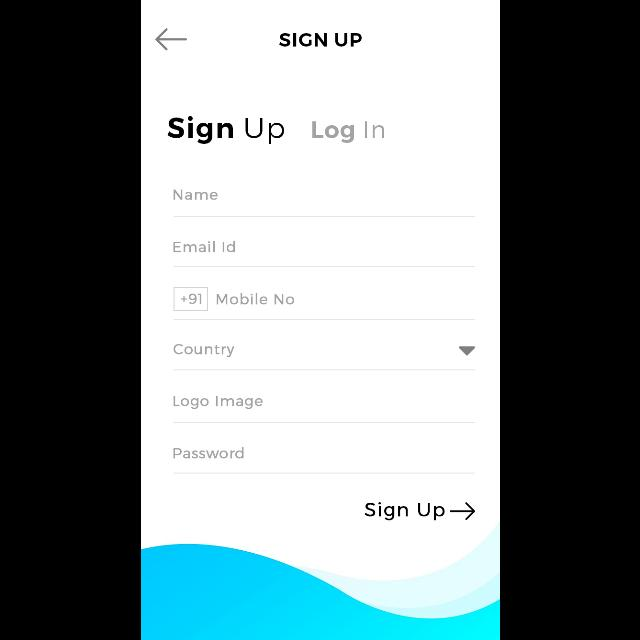icon: (154, 29, 186, 51), (450, 502, 474, 520), (459, 346, 475, 356)
input: (173, 288, 475, 320), (172, 446, 476, 474), (173, 395, 475, 423), (173, 344, 475, 371), (173, 190, 475, 217), (173, 241, 475, 267)
spinner: (173, 344, 475, 371)
text: (168, 116, 284, 144), (312, 122, 384, 144), (364, 502, 444, 520), (172, 396, 262, 409), (279, 33, 361, 47), (172, 344, 234, 358), (216, 294, 294, 304), (172, 448, 244, 458), (173, 242, 234, 252), (173, 190, 217, 200)
